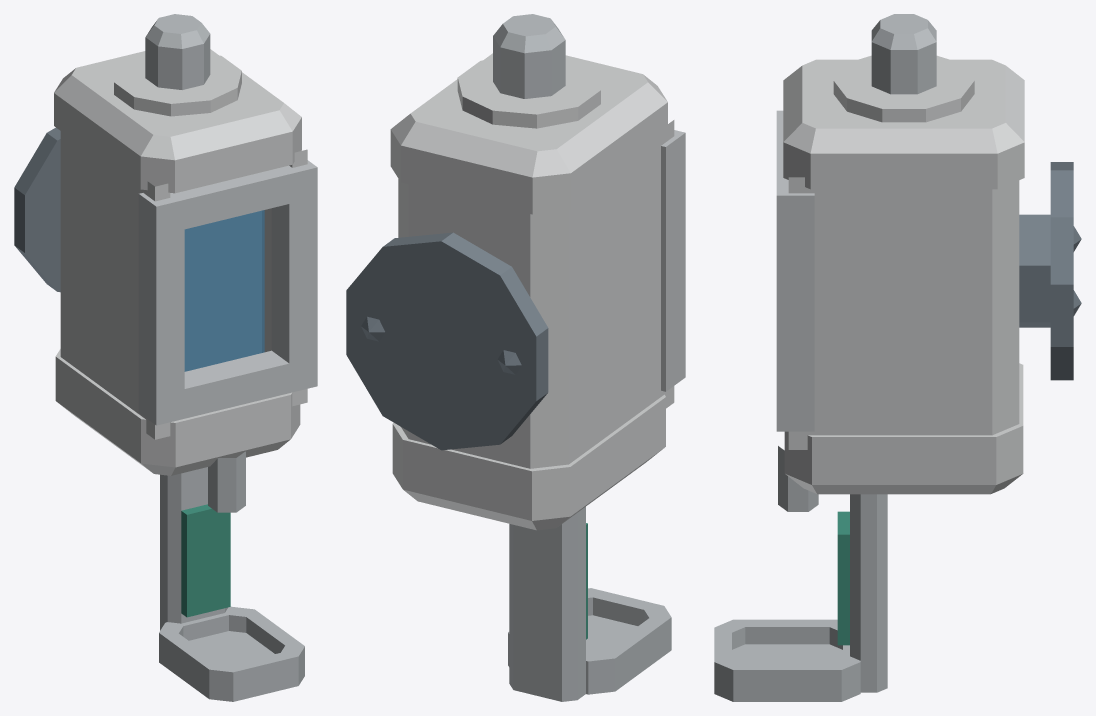
3 renders of one model, left to right at view 1: azimuth 30°, elevation 25°; view 2: azimuth 150°, elevation 25°; view 3: azimuth 270°, elevation 25°, orthographic. The views are drawn at different scales.
Parts seen in each view (by area): view 1: case, cradle, lever, bottle; view 2: case, lever, cradle; view 3: case, lever, cradle.
Boxes of the visible parts, x1,y1,x2,y2 form: case: (14, 14, 307, 512); cradle: (138, 160, 317, 425); lever: (159, 467, 304, 701); bottle: (184, 210, 264, 371); case: (346, 14, 674, 530); lever: (508, 507, 671, 701); cradle: (661, 130, 685, 391); case: (778, 14, 1081, 511); lever: (714, 494, 887, 701); cradle: (776, 110, 814, 431).
Bounding box in the file's own units: 0.156 × 0.531 × 0.271.
